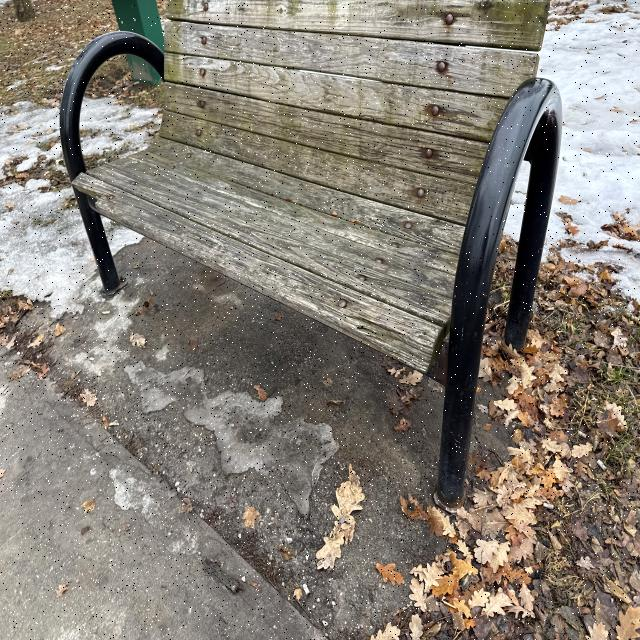Bench: (59, 2, 572, 291), (304, 4, 572, 446)
